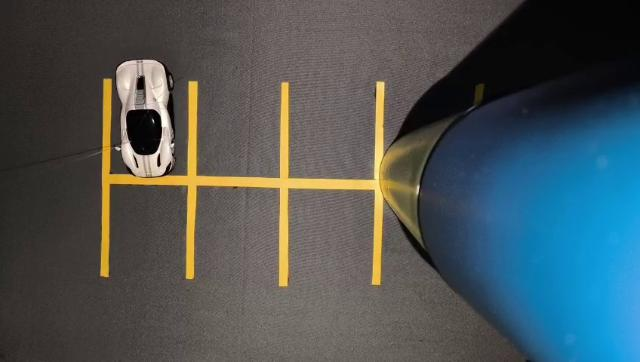toy_car: (89, 42, 198, 194)
